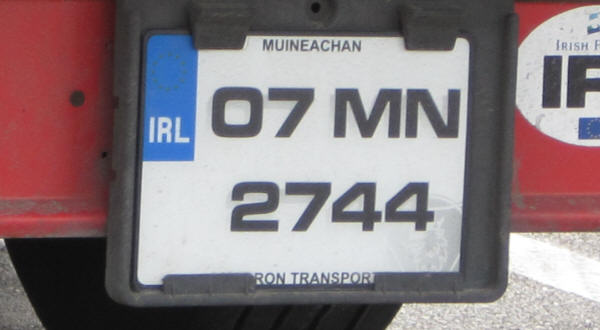license_plate: (130, 30, 476, 292)
